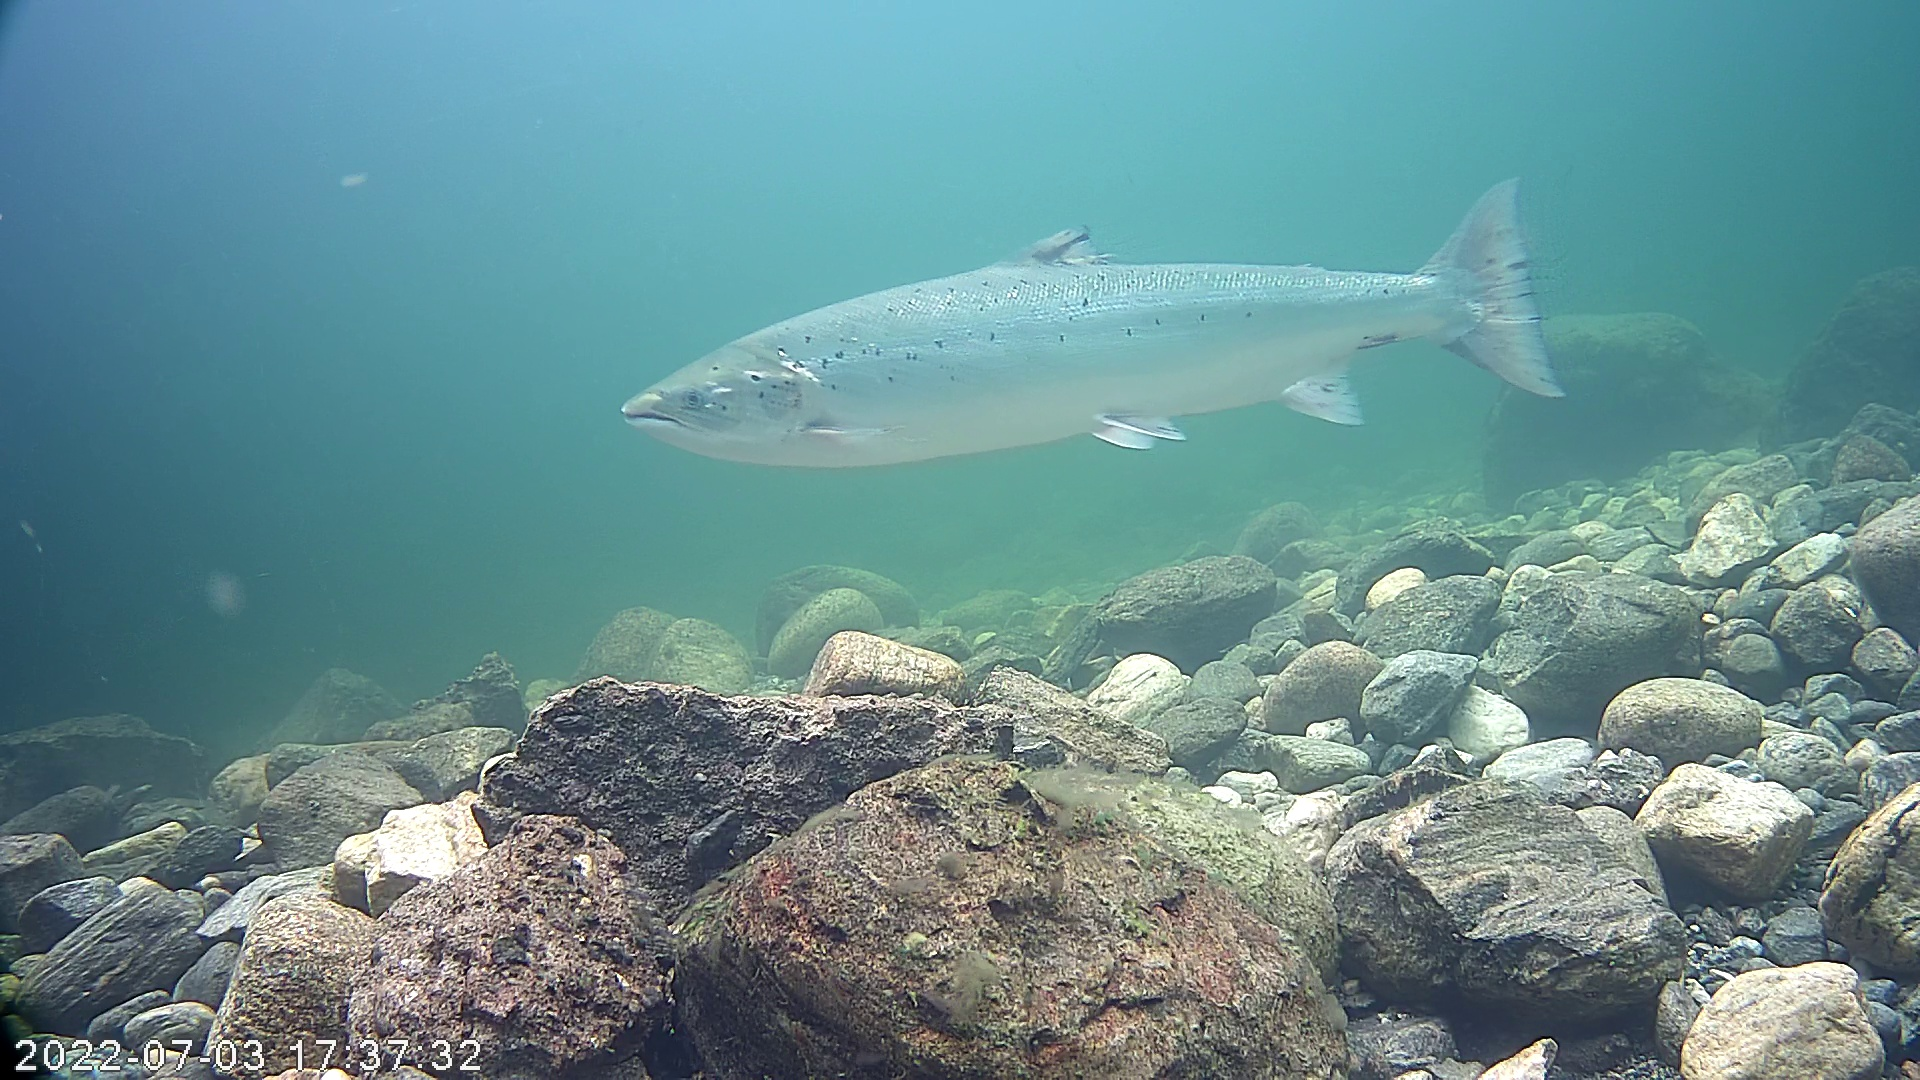salmon: (618, 171, 1571, 472)
